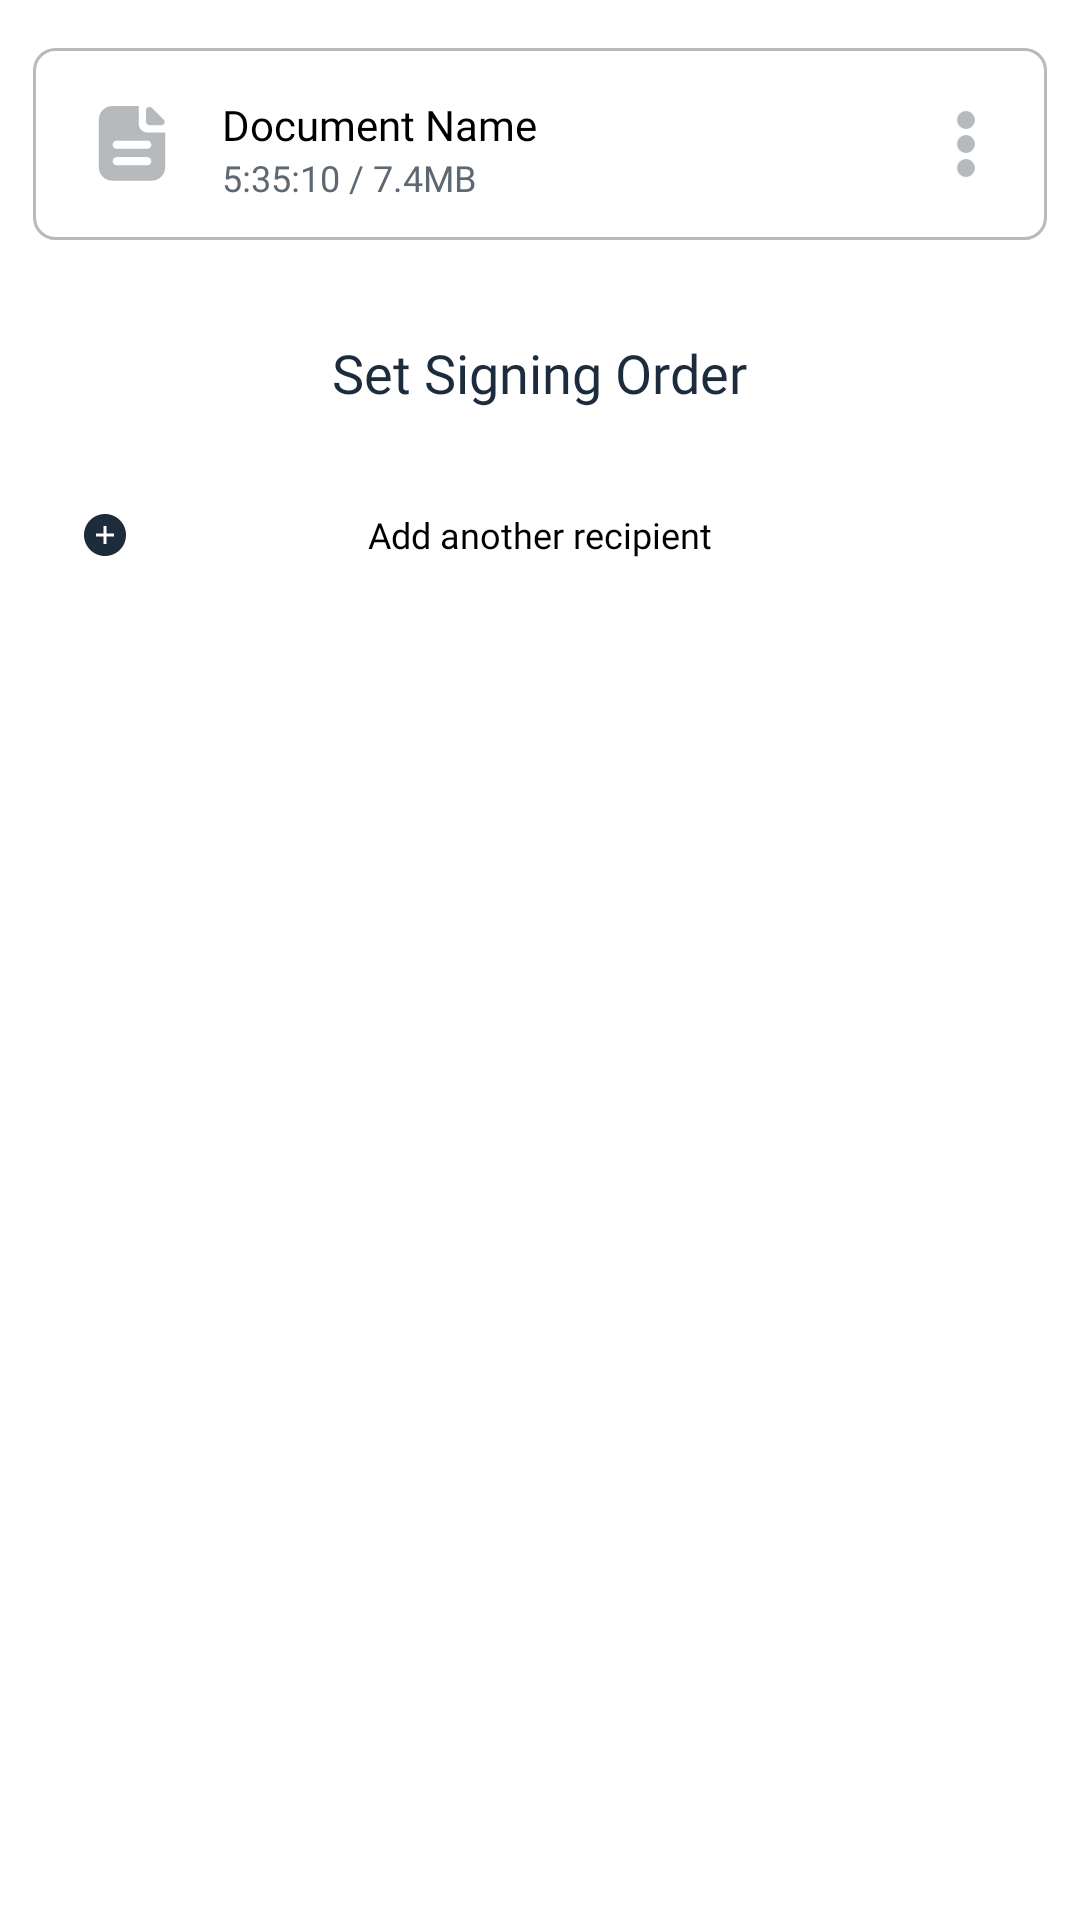

Where icons sit on this 1080px x 1920px app screen, as BBox(x1, y1, x2, y2):
add: BBox(84, 514, 126, 556)
doc: BBox(99, 106, 165, 181)
more doc: BBox(957, 111, 975, 177)
